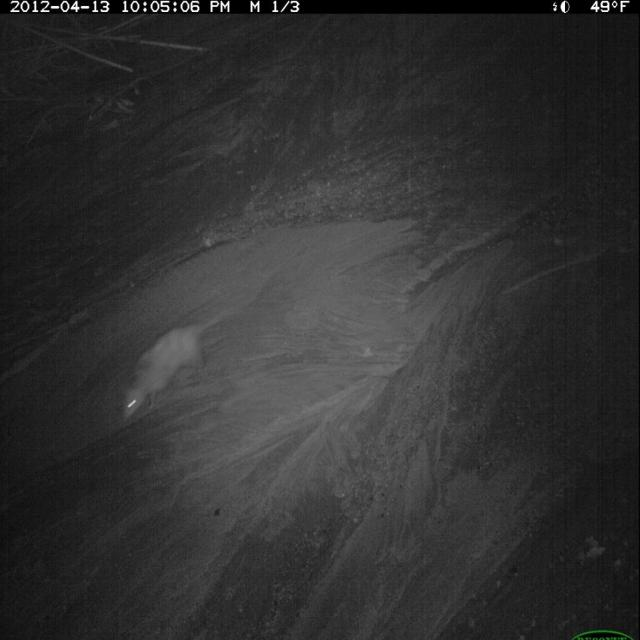opossum: (118, 310, 233, 431)
